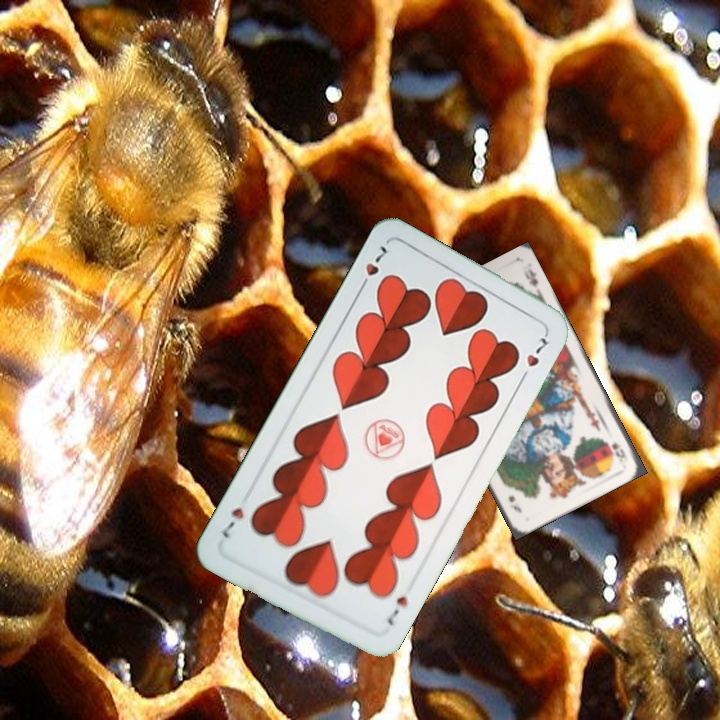H7: (355, 241, 392, 294), (382, 591, 412, 629)
SK: (607, 439, 631, 464)
